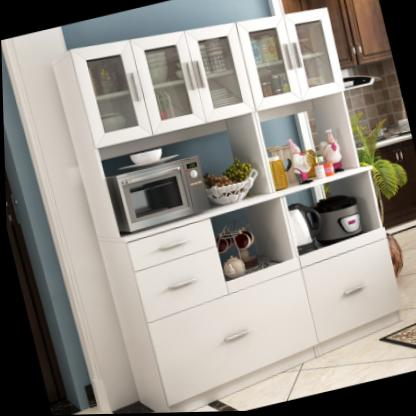Ceramic floor: (187, 227, 416, 413)
Cupboard: (52, 10, 395, 411)
